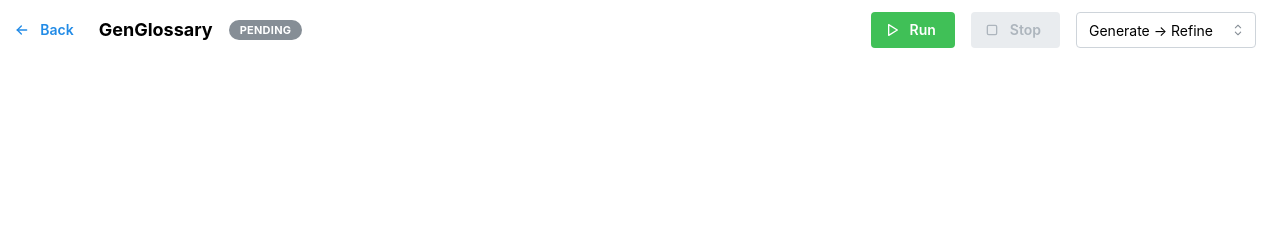
Test: AppShell › GlobalTopBar scope labels › should show "Generate → Refine" instead of "Full Pipeline" for full scope
Check: the button "Run" is shown, box [870,12,955,48]
Open the scope selector dropdown
Click the field named "Scope". click: {"x": 1166, "y": 30}
box: [1076,12,1256,48]
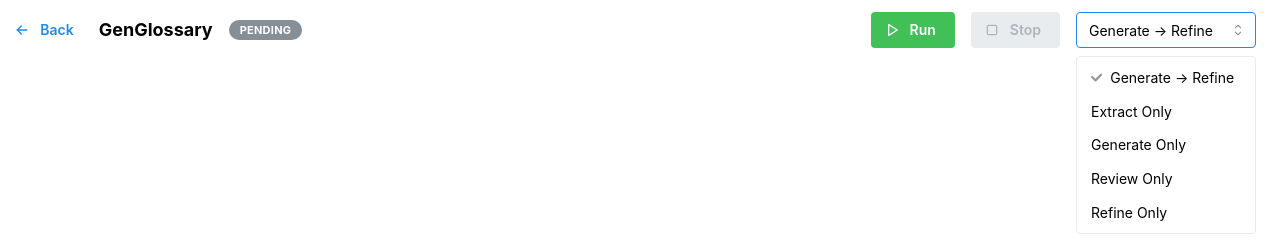
Check: the text "Generate → Refine" is shown, box [1110,67,1234,89]
